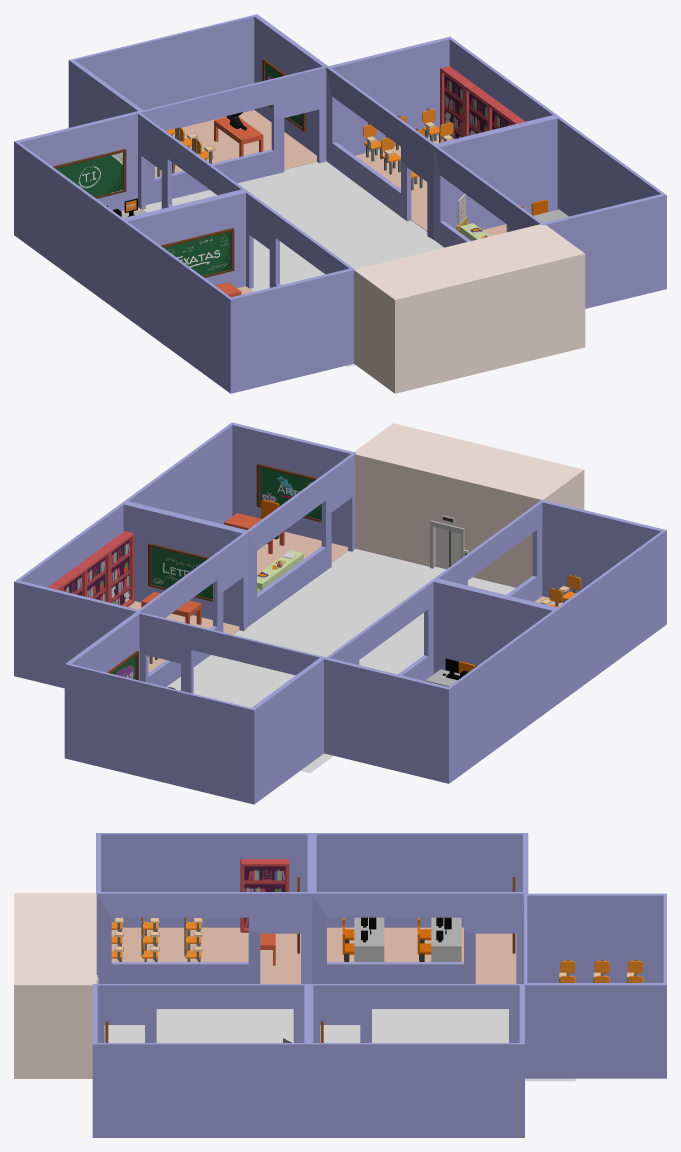
Rendered from salasfam.fbx.
3 views of the same model, one above another, from view 1: azimuth 30°, elevation 25°; view 2: azimuth 150°, elevation 25°; view 3: azimuth 270°, elevation 25° (orthographic).
Visible parts, largest first — view 1: Cube.012, Cube, Cube.074, Cube.044, Cube.027, Cube.059, Plane.002, Cube.060, Cube.029, Cube.016, Cube.062, Cube.047 (+2 smaller); view 2: Cube.044, Cube.027, Cube, Cube.012, Cube.059, Cube.074, Plane.002, Cube.060, Cube.046, Cube.048, Cube.063, Cube.031 (+3 smaller); view 3: Cube.074, Cube.059, Cube.044, Cube.027, Cube.012, Cube, Plane.002, Cube.060, Cube.001, Cube.014, Cube.018.
Boxes of the visible parts, bbox=[...] form: Cube.012: bbox=[122, 191, 354, 393]; Cube: bbox=[354, 224, 585, 393]; Cube.074: bbox=[434, 116, 666, 308]; Cube.044: bbox=[68, 14, 328, 204]; Cube.027: bbox=[14, 111, 246, 313]; Cube.059: bbox=[326, 36, 558, 239]; Plane.002: bbox=[143, 161, 443, 366]; Cube.060: bbox=[121, 110, 506, 294]; Cube.029: bbox=[165, 231, 230, 276]; Cube.016: bbox=[57, 152, 122, 196]; Cube.062: bbox=[440, 66, 473, 139]; Cube.047: bbox=[464, 84, 496, 136]; Cube.044: bbox=[64, 612, 325, 804]; Cube.027: bbox=[324, 579, 558, 783]; Cube: bbox=[354, 423, 584, 587]; Cube.012: bbox=[434, 499, 666, 703]; Cube.059: bbox=[14, 502, 248, 688]; Cube.074: bbox=[123, 422, 356, 626]; Plane.002: bbox=[166, 548, 515, 773]; Cube.060: bbox=[128, 532, 562, 672]; Cube.046: bbox=[101, 531, 134, 606]; Cube.048: bbox=[151, 546, 212, 599]; Cube.063: bbox=[260, 467, 321, 519]; Cube.031: bbox=[77, 548, 109, 602]; Cube.074: bbox=[92, 984, 309, 1137]; Cube.059: bbox=[308, 984, 524, 1137]; Cube.044: bbox=[522, 893, 666, 1078]; Cube.027: bbox=[311, 833, 528, 983]; Cube.012: bbox=[96, 833, 312, 983]; Cube: bbox=[14, 893, 97, 1078]; Plane.002: bbox=[104, 1009, 575, 1081]; Cube.060: bbox=[111, 927, 516, 983]; Cube.001: bbox=[240, 859, 289, 932]; Cube.014: bbox=[431, 917, 461, 961]; Cube.018: bbox=[354, 917, 384, 961].
Size of the model in its own units: 9786 by 2018 by 12772.
